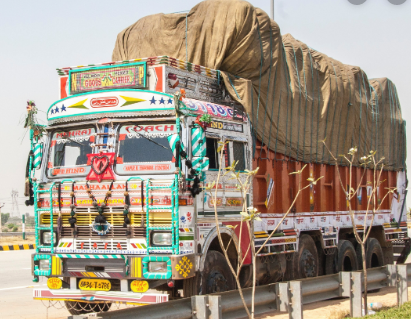truck: (34, 2, 403, 314)
